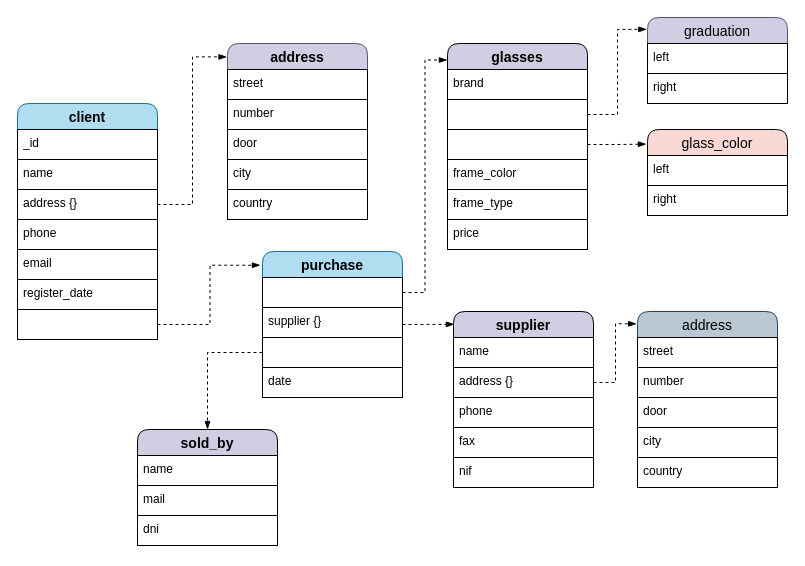
This 805x566 diagram has some shape labels left out. The shapes that lost their labels are listed below. From the top down, each one's centre as x and y in pixels, then its label:
At point (517, 114): "graduation {}".
At point (517, 144): "glass_color {}".
At point (332, 292): "glasses {}".
At point (87, 324): "purchase {}".
At point (332, 352): "sold_by {}".
